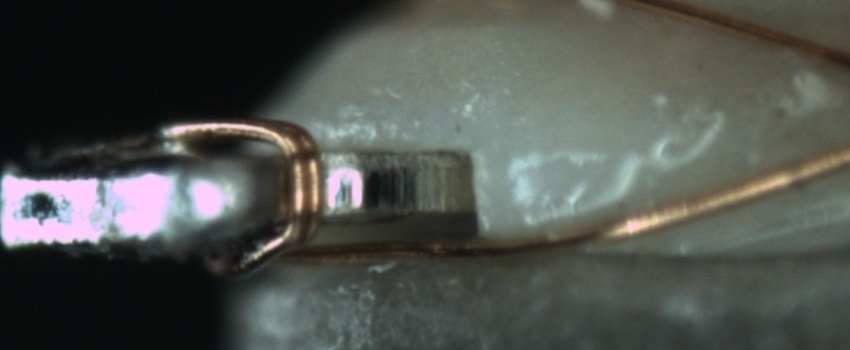TE: (170, 101, 332, 266)
